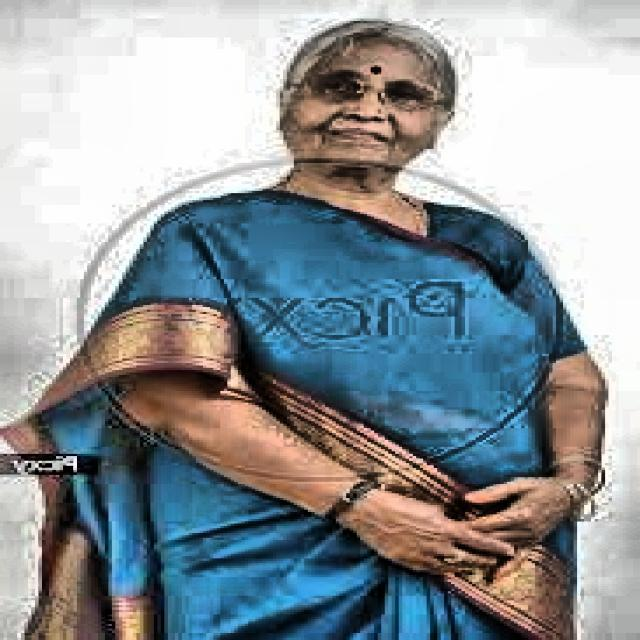Human: (79, 16, 606, 640)
